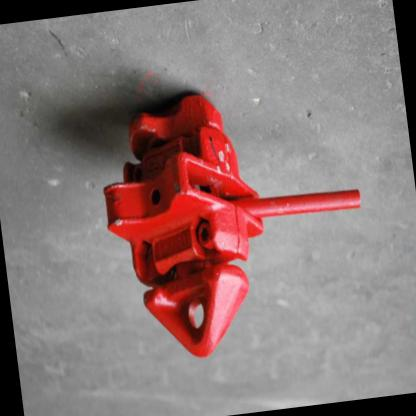Twistlock: (87, 71, 382, 374)
